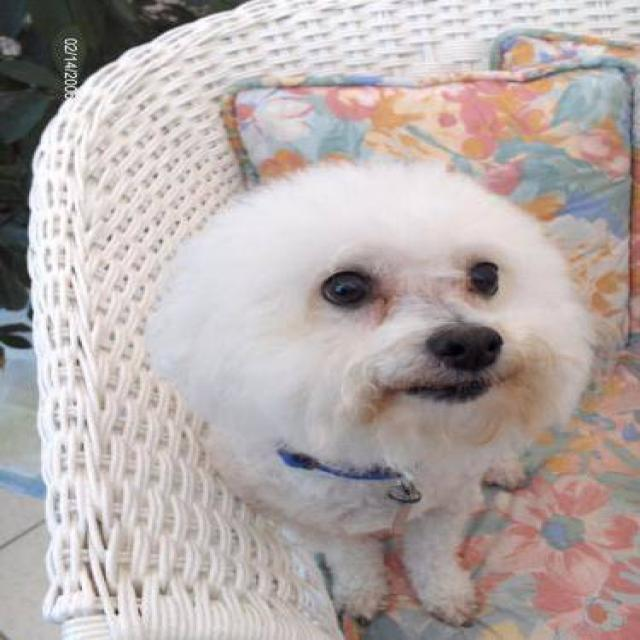Dog: (144, 161, 595, 464)
